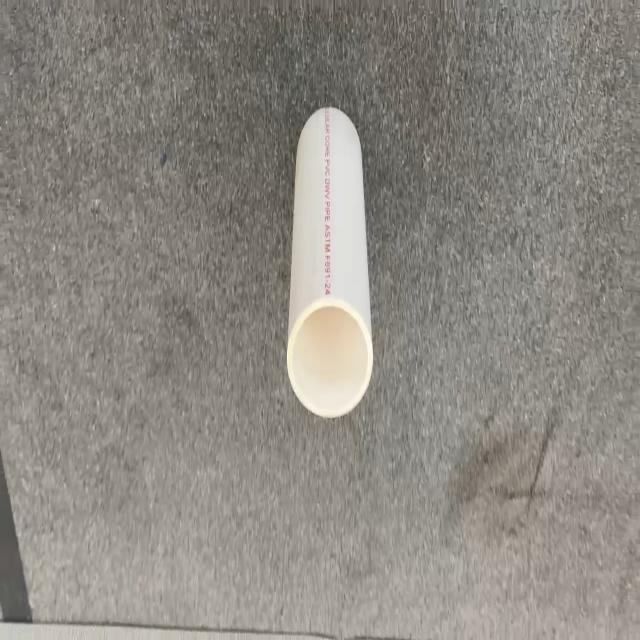coral: (286, 104, 374, 419)
